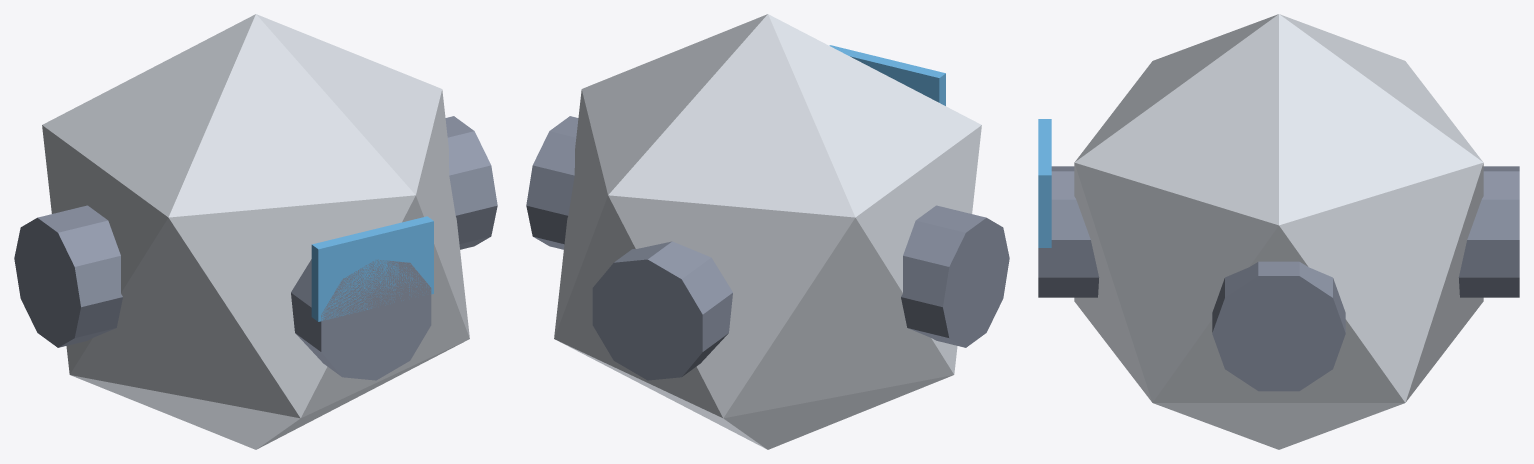
File: colony-hab-hub.glb
The picture shows the model from 3 angles, left to right: view 1: azimuth 30°, elevation 25°; view 2: azimuth 150°, elevation 25°; view 3: azimuth 270°, elevation 25°; orthographic projection.
Visible parts, largest first — view 1: hab_hub; view 2: hab_hub; view 3: hab_hub.
Boxes of the visible parts, box(x1,y1,x2,y2) form: hab_hub: box(14, 14, 497, 449); hab_hub: box(526, 14, 1009, 449); hab_hub: box(1038, 14, 1519, 449).
Bounding box in the file's own units: 3.6 × 3.6 × 3.6.
